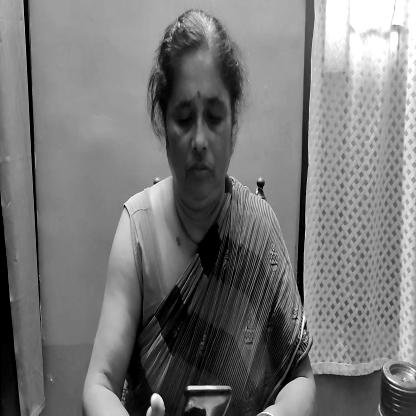Distracted: (151, 17, 243, 215)
